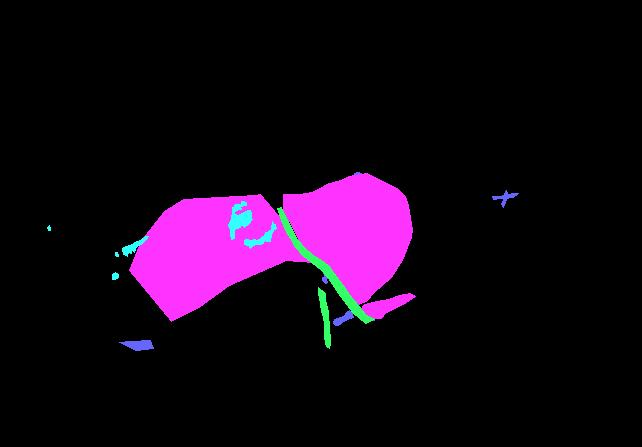Broken part: (277, 207, 374, 323), (318, 287, 330, 348)
Dent: (129, 194, 313, 321), (283, 173, 412, 305), (361, 293, 415, 318)
Flaking: (244, 221, 276, 248), (228, 210, 252, 239), (122, 236, 148, 256), (232, 201, 246, 213), (112, 272, 118, 279), (47, 225, 50, 230), (115, 252, 118, 256)
Scratch: (353, 269, 385, 298), (119, 340, 153, 350), (354, 172, 380, 185), (333, 310, 353, 325), (355, 289, 371, 306), (344, 288, 358, 307), (312, 253, 327, 267), (317, 266, 329, 283), (359, 309, 375, 320), (492, 193, 518, 199), (501, 190, 507, 207), (344, 276, 350, 285)
